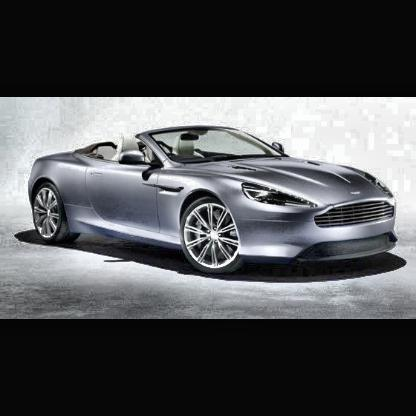Aston Martin Virage Convertible 2012: (29, 126, 402, 279)
